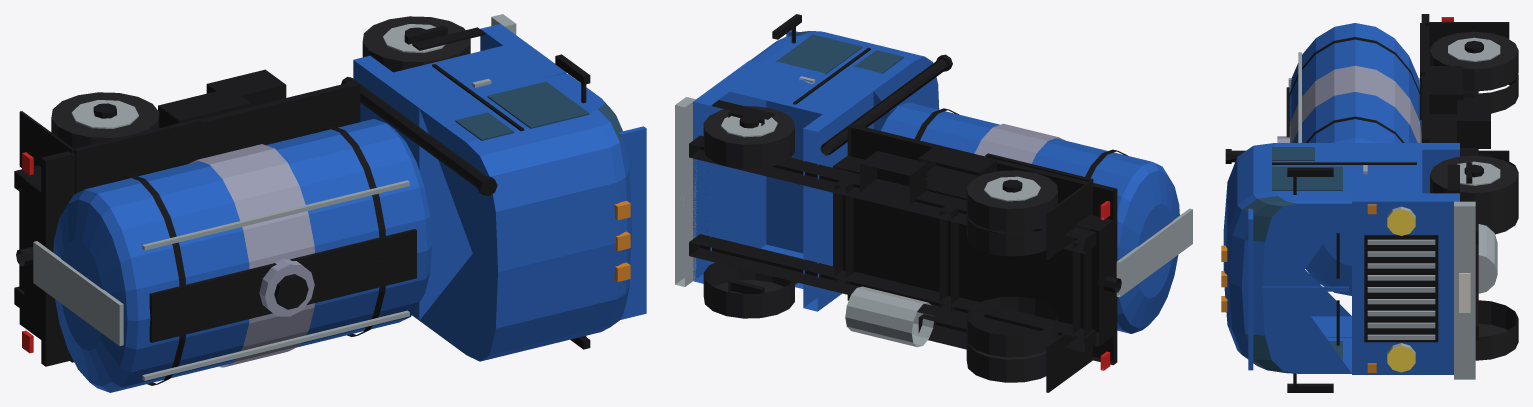
3 views of the same model, side by side, from view 1: azimuth 30°, elevation 25°; view 2: azimuth 150°, elevation 25°; view 3: azimuth 270°, elevation 25° (orthographic). The views are drawn at different scales.
Visible parts, largest first — view 1: default_tank, default_cab_upper, default_walkway, default_deck, default_band, default_cab_arch, default_rear_guard1, default_cab_back, default_rear_out1, default_ladder, default_front1, default_visor (+15 smaller); view 2: default_subframe, default_tank, default_cab_arch, default_chassis-1, default_cab_front, default_cab_back, default_chassis1, default_cab_upper, default_rear_out1, default_deck, default_front1, default_fuel_tank (+20 smaller); view 3: default_cab_upper, default_tank, default_cab_front, default_grille, default_rear_out1, default_front1, default_bumper, default_band, default_cab_arch, default_front-1, default_battery_box, default_hose_box1 (+33 smaller).
Part boxes in pixels (x1=…): default_tank: x1=53, y1=119, x2=431, y2=392; default_cab_upper: x1=419, y1=73, x2=631, y2=361; default_walkway: x1=149, y1=229, x2=416, y2=342; default_deck: x1=41, y1=81, x2=360, y2=366; default_band: x1=189, y1=144, x2=314, y2=367; default_cab_arch: x1=393, y1=45, x2=545, y2=298; default_rear_guard1: x1=74, y1=118, x2=200, y2=193; default_cab_back: x1=353, y1=55, x2=436, y2=320; default_rear_out1: x1=51, y1=92, x2=159, y2=148; default_ladder: x1=33, y1=241, x2=123, y2=346; default_front1: x1=362, y1=16, x2=470, y2=72; default_visor: x1=619, y1=126, x2=646, y2=319; default_subframe: x1=833, y1=155, x2=1113, y2=346; default_tank: x1=877, y1=102, x2=1179, y2=333; default_cab_arch: x1=729, y1=65, x2=858, y2=288; default_chassis-1: x1=689, y1=234, x2=1096, y2=352; default_cab_front: x1=693, y1=60, x2=765, y2=283; default_cab_back: x1=803, y1=87, x2=873, y2=311; default_chassis1: x1=689, y1=135, x2=1096, y2=253; default_cab_upper: x1=750, y1=31, x2=939, y2=129; default_rear_out1: x1=966, y1=170, x2=1057, y2=231; default_deck: x1=847, y1=124, x2=1117, y2=365; default_front1: x1=703, y1=106, x2=794, y2=168; default_fuel_tank: x1=845, y1=286, x2=934, y2=347; default_cab_upper: x1=1223, y1=143, x2=1351, y2=373; default_tank: x1=1289, y1=23, x2=1421, y2=295; default_cab_front: x1=1352, y1=193, x2=1459, y2=374; default_grille: x1=1364, y1=235, x2=1438, y2=342; default_rear_out1: x1=1430, y1=31, x2=1518, y2=91; default_front1: x1=1430, y1=155, x2=1518, y2=216; default_bumper: x1=1454, y1=201, x2=1475, y2=379; default_band: x1=1289, y1=66, x2=1421, y2=142; default_cab_arch: x1=1352, y1=149, x2=1422, y2=193; default_front-1: x1=1475, y1=300, x2=1518, y2=360; default_battery_box: x1=1457, y1=97, x2=1490, y2=148; default_hose_box1: x1=1429, y1=66, x2=1463, y2=114.
Size of the model in its own units: 7.75 by 3.98 by 4.82.
